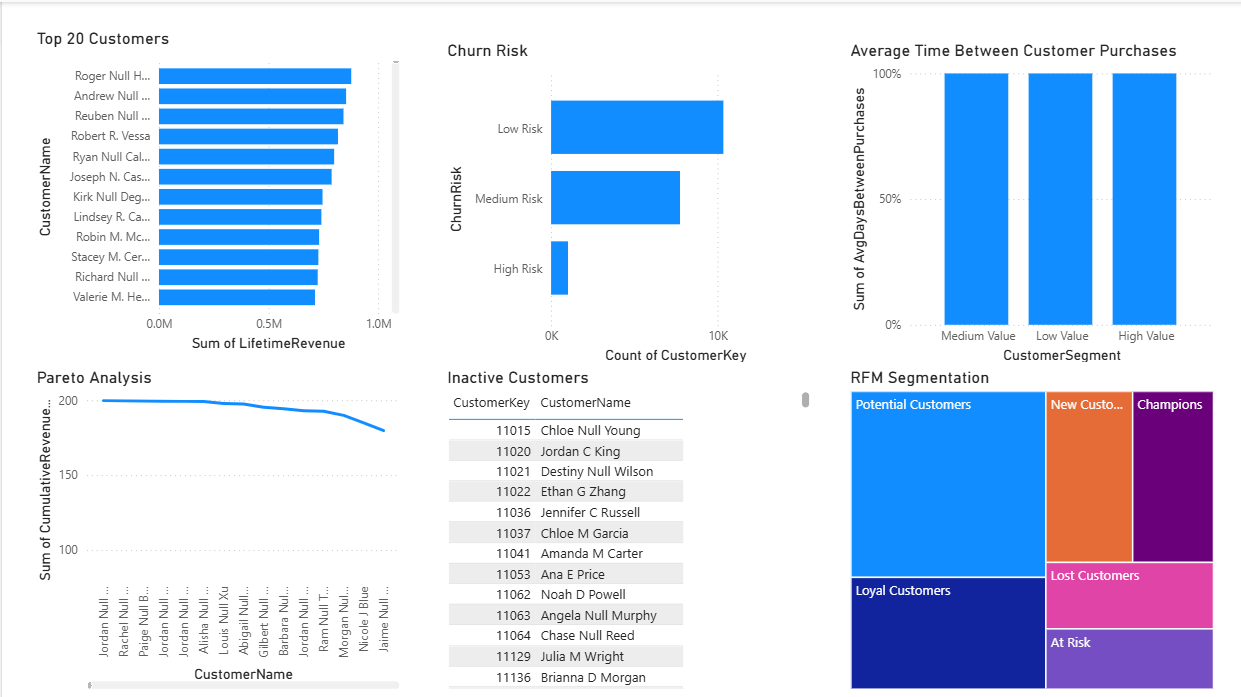

The dashboard page shown, as its layout file describes it:
{"tool":"powerbi","page":{"name":"Customer Analytics","canvas":[1280,720],"ordinal":1},"visuals":[{"type":"barChart","title":"Top 20 Customers","fields":{"Category":["vw_top_20_customers_lifetime_value.CustomerName"],"Y":["Sum(vw_top_20_customers_lifetime_value.LifetimeRevenue)"]},"box":[30,27.1,379.9,332.8],"z":0},{"type":"lineChart","title":"Pareto Analysis","fields":{"Category":["vw_top_20_customers_lifetime_value.CustomerName"],"Y":["Sum(vw_top_20_customers_lifetime_value.CumulativeRevenuePercentage)"]},"box":[30,372.8,379.9,332.8],"z":1},{"type":"clusteredBarChart","title":"Churn Risk","fields":{"Category":["vw_customer_churn_risk.ChurnRisk"],"Y":["CountNonNull(vw_customer_churn_risk.CustomerKey)"]},"box":[449.9,40,379.9,332.8],"z":2},{"type":"tableEx","title":"Inactive Customers","fields":{"Values":["vw_inactive_customers_last_12_months.CustomerKey","vw_inactive_customers_last_12_months.CustomerName"]},"box":[449.9,372.8,379.9,332.8],"z":3},{"type":"hundredPercentStackedColumnChart","title":"Average Time Between Customer Purchases","fields":{"Category":["vw_avg_purchase_interval_by_segment.CustomerSegment"],"Y":["Sum(vw_avg_purchase_interval_by_segment.AvgDaysBetweenPurchases)"]},"box":[861.3,40,379.9,332.8],"z":4},{"type":"treemap","title":"RFM Segmentation","fields":{"Group":["vw_customer_rfm_segmentation.CustomerSegment"],"Values":["CountNonNull(vw_customer_rfm_segmentation.CustomerKey)"]},"box":[861.3,372.8,379.9,332.8],"z":5}]}

Visuals, with their boxes in screenshot pixels (x1, y1, x2, y2), scaled from the page's 1280x720 canvas onto the 1241x697 screenshot:
"Top 20 Customers" barChart: detection(29, 26, 397, 348)
"Pareto Analysis" lineChart: detection(29, 361, 397, 683)
"Churn Risk" clusteredBarChart: detection(436, 39, 805, 361)
"Inactive Customers" tableEx: detection(436, 361, 805, 683)
"Average Time Between Customer Purchases" hundredPercentStackedColumnChart: detection(835, 39, 1203, 361)
"RFM Segmentation" treemap: detection(835, 361, 1203, 683)
